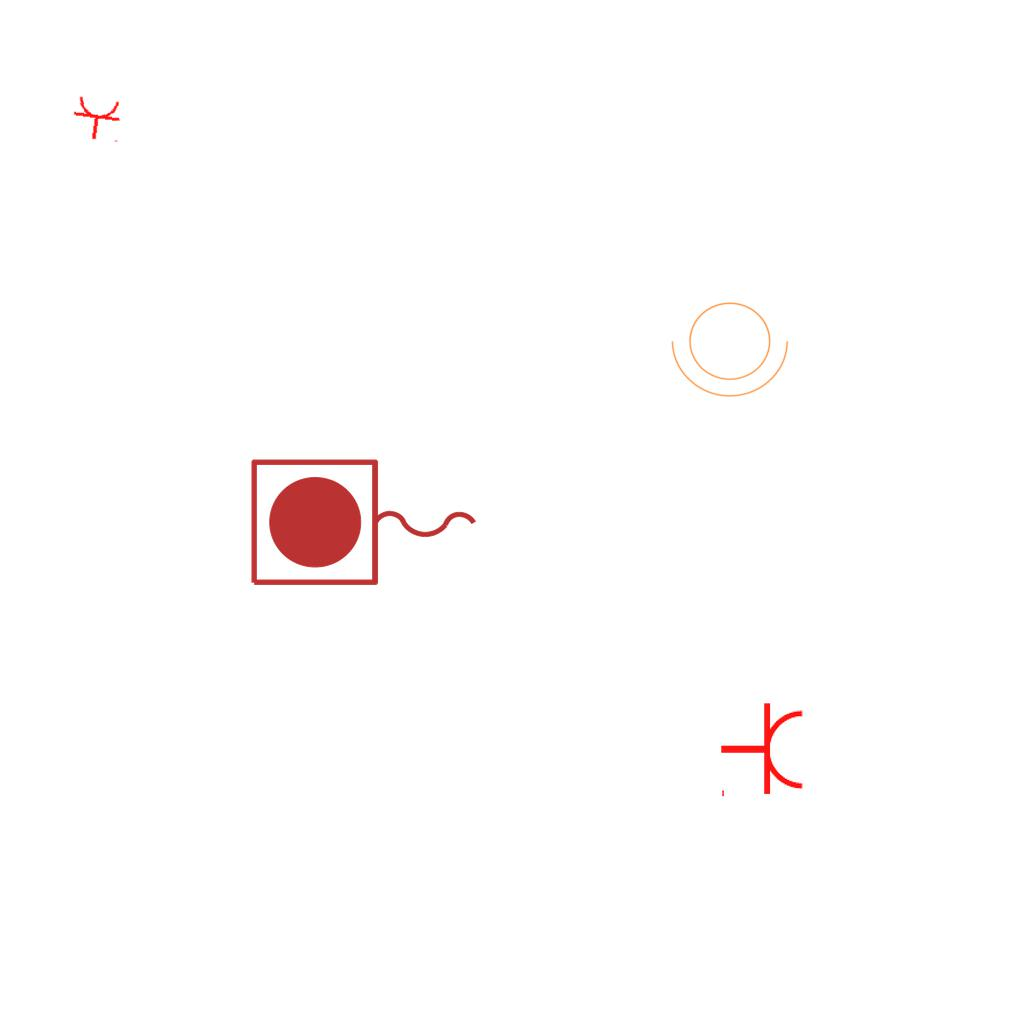Scheinwerfer_fuer_Alarmbeleuchtung: (667, 290, 799, 402)
Schukosteckdose_einfach: (719, 701, 806, 801), (69, 94, 126, 144)
Zugtaster: (243, 452, 487, 596)
